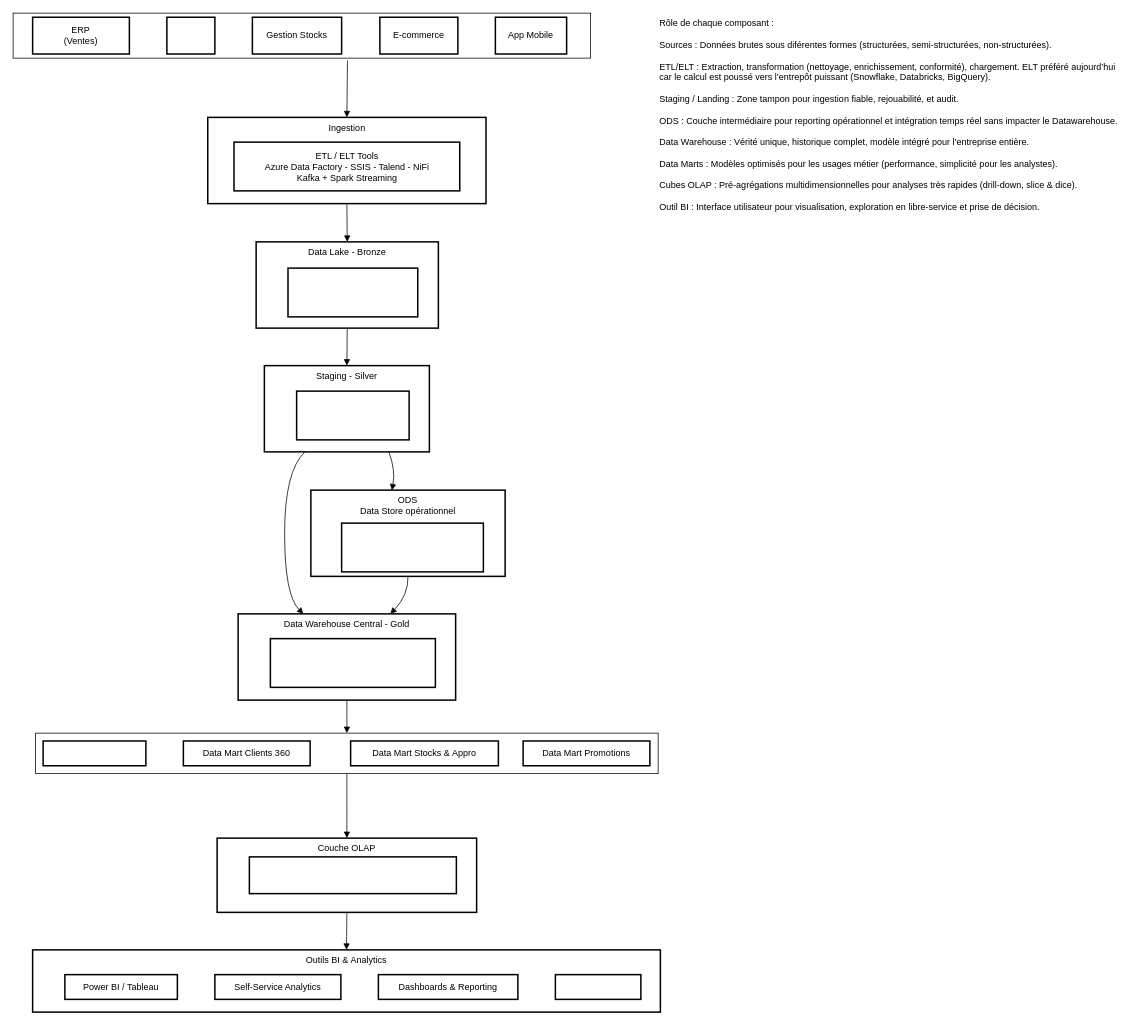
The diagram is 1142 pixels wide and 1026 high, and some of its shapes have lost their labels. Here are the shapes that lost their labels. From the top down, the centre of each, then its label:
point (190, 35): CRM (Clients)
point (352, 292): Stockage Brut des données
point (353, 415): Données nettoyées Dédoublonnées Conformées
point (412, 547): Base relationnelle Quasi temps réel PostgreSQL / SQL Server
point (352, 663): Historique complet Surrogate Keys + SCD
point (94, 753): Data Mart Ventes
point (352, 875): Cubes Multidimensionnels
point (597, 987): Alerting & ML
